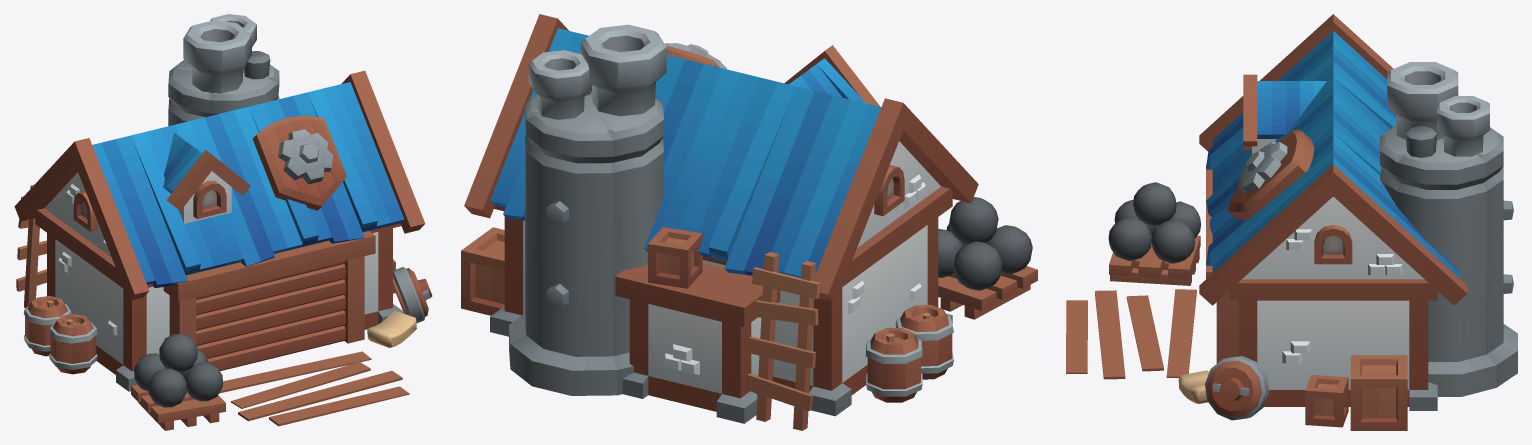
Rendered from hexb_workshop.glb.
The picture shows the model from 3 angles, left to right: view 1: azimuth 30°, elevation 25°; view 2: azimuth 150°, elevation 25°; view 3: azimuth 270°, elevation 25°; orthographic projection. The views are drawn at different scales.
Parts seen in each view (by area): view 1: building_workshop_blue; view 2: building_workshop_blue; view 3: building_workshop_blue.
Part boxes in pixels (box(x1,y1,x2,y2)): building_workshop_blue: box(14, 14, 432, 430); building_workshop_blue: box(461, 14, 1037, 430); building_workshop_blue: box(1066, 14, 1517, 430).
Bounding box in the file's own units: 1.67 × 1.15 × 1.67.
Materials: 1 (1 with a texture image).
